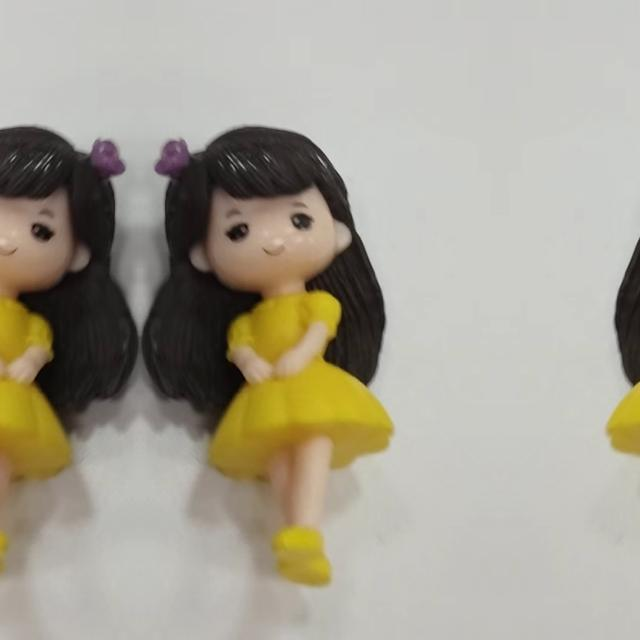woman dress: (212, 288, 382, 590), (0, 288, 67, 590), (618, 288, 640, 590)
woman head: (150, 108, 358, 288), (0, 107, 129, 288)
